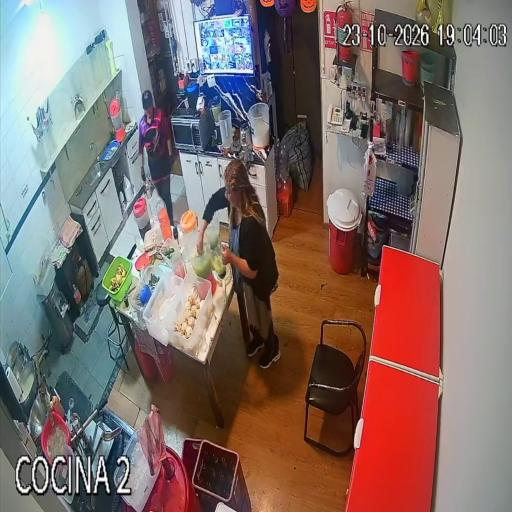Envase Llajua: (47, 395, 64, 417)
Jarra1: (133, 197, 150, 241)
Jarra2: (179, 210, 197, 244)
Jarra3: (219, 110, 233, 149)
Microondas: (170, 111, 209, 152)
Persona2: (139, 90, 174, 224)
Persona3: (196, 159, 280, 368)
Taper2: (130, 272, 154, 312)
Taper3: (143, 272, 183, 345)
Taper4: (163, 274, 214, 359)
